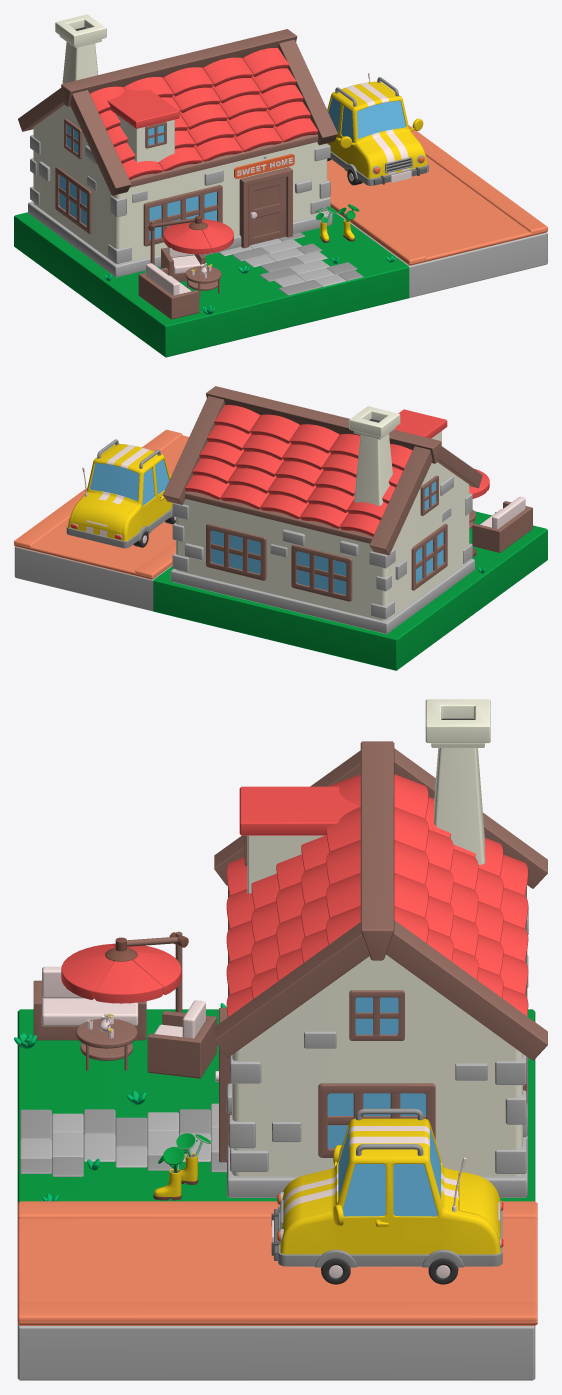
File: Town_Island_18.glb
The picture shows the model from 3 angles, top to bottom: view 1: azimuth 30°, elevation 25°; view 2: azimuth 150°, elevation 25°; view 3: azimuth 270°, elevation 25°; orthographic projection. The views are drawn at different scales.
Visible parts, largest first — view 1: Town_18_House_1, Town_18_Base_1, Town_18_Road_1, Town_18_Car_1, Town_18_Path_1, Town_18_Umbrella_1, Town_18_Outdoor_Couch_1, Town_18_Outdoor_Armchair_1, Town_18_Sign_Sweet_Home_1, Town_18_Table_1; view 2: Town_18_House_1, Town_18_Base_1, Town_18_Car_1, Town_18_Road_1, Town_18_Outdoor_Couch_1, Town_18_Umbrella_1; view 3: Town_18_House_1, Town_18_Road_1, Town_18_Base_1, Town_18_Car_1, Town_18_Path_1, Town_18_Umbrella_1, Town_18_Outdoor_Couch_1, Town_18_Outdoor_Armchair_1, Town_18_Table_1, Town_18_Plant_in_Boot_2, Town_18_Plant_in_Boot_1.
Boxes of the visible parts, x1=… form: Town_18_House_1: x1=18, y1=14, x2=337, y2=277; Town_18_Base_1: x1=14, y1=211, x2=547, y2=357; Town_18_Road_1: x1=327, y1=125, x2=547, y2=265; Town_18_Car_1: x1=327, y1=73, x2=428, y2=185; Town_18_Path_1: x1=219, y1=232, x2=363, y2=295; Town_18_Umbrella_1: x1=147, y1=216, x2=233, y2=264; Town_18_Outdoor_Couch_1: x1=138, y1=263, x2=199, y2=319; Town_18_Outdoor_Armchair_1: x1=161, y1=246, x2=205, y2=281; Town_18_Sign_Sweet_Home_1: x1=234, y1=154, x2=294, y2=178; Town_18_Table_1: x1=185, y1=266, x2=221, y2=298; Town_18_House_1: x1=163, y1=386, x2=482, y2=634; Town_18_Base_1: x1=14, y1=511, x2=547, y2=670; Town_18_Car_1: x1=66, y1=439, x2=175, y2=548; Town_18_Road_1: x1=14, y1=429, x2=188, y2=579; Town_18_Outdoor_Couch_1: x1=472, y1=496, x2=532, y2=552; Town_18_Umbrella_1: x1=469, y1=468, x2=489, y2=557; Town_18_House_1: x1=214, y1=699, x2=547, y2=1197; Town_18_Road_1: x1=17, y1=1201, x2=537, y2=1325; Town_18_Base_1: x1=17, y1=1009, x2=535, y2=1380; Town_18_Car_1: x1=271, y1=1108, x2=503, y2=1284; Town_18_Path_1: x1=20, y1=1103, x2=226, y2=1176; Town_18_Umbrella_1: x1=61, y1=931, x2=188, y2=1012; Town_18_Outdoor_Couch_1: x1=33, y1=966, x2=146, y2=1040; Town_18_Outdoor_Armchair_1: x1=147, y1=1000, x2=216, y2=1078; Town_18_Table_1: x1=76, y1=1018, x2=137, y2=1070; Town_18_Plant_in_Boot_2: x1=153, y1=1147, x2=187, y2=1200; Town_18_Plant_in_Boot_1: x1=176, y1=1133, x2=210, y2=1184.
Bounding box in the file's own units: 14.29 × 8.12 × 10.12.
Materials: 23 (23 with a texture image).
